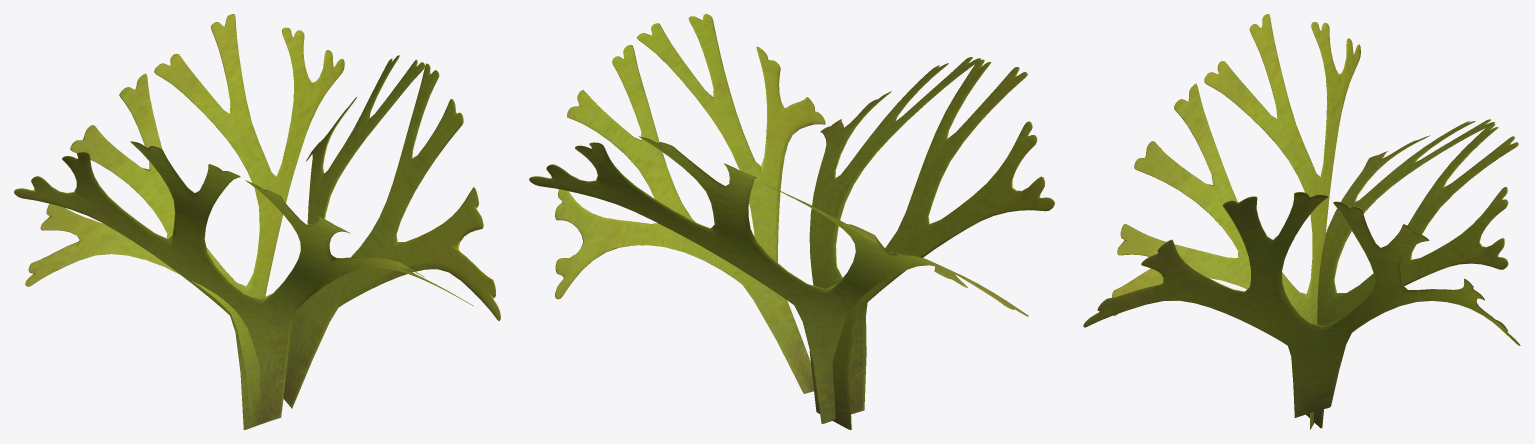
File: Dictyota_3.FBX
The picture shows the model from 3 angles, left to right: view 1: azimuth 30°, elevation 25°; view 2: azimuth 150°, elevation 25°; view 3: azimuth 270°, elevation 25°; orthographic projection. The views are drawn at different scales.
Visible parts, largest first — view 1: Box009; view 2: Box009; view 3: Box009.
Part boxes in pixels (box(x1,y1,x2,y2)): Box009: box(14, 14, 500, 429); Box009: box(529, 14, 1054, 429); Box009: box(1083, 14, 1520, 429).
Size of the model in its own units: 57.34 by 45.42 by 53.08.
